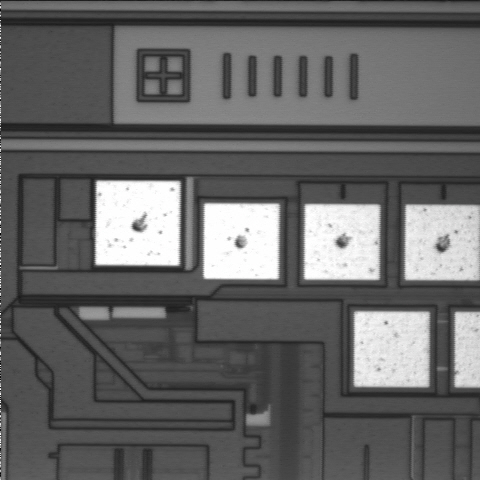pad: (96, 181, 180, 266), (304, 204, 380, 280), (204, 203, 279, 279), (354, 311, 429, 387)
